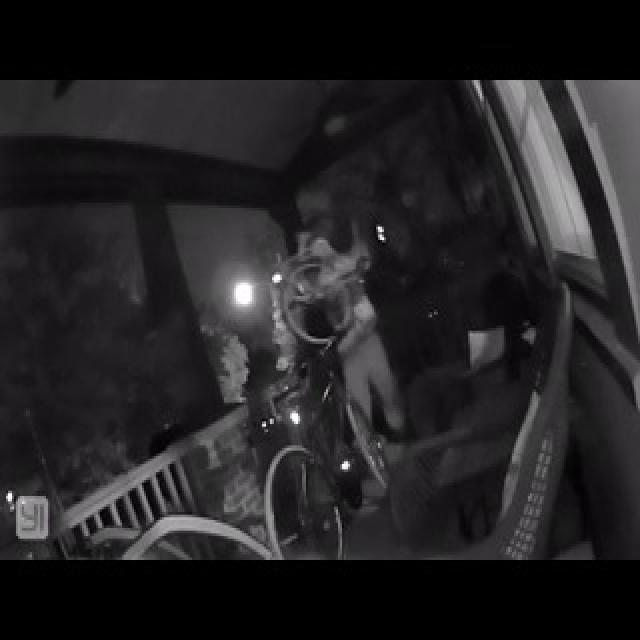thief: (306, 233, 406, 434)
